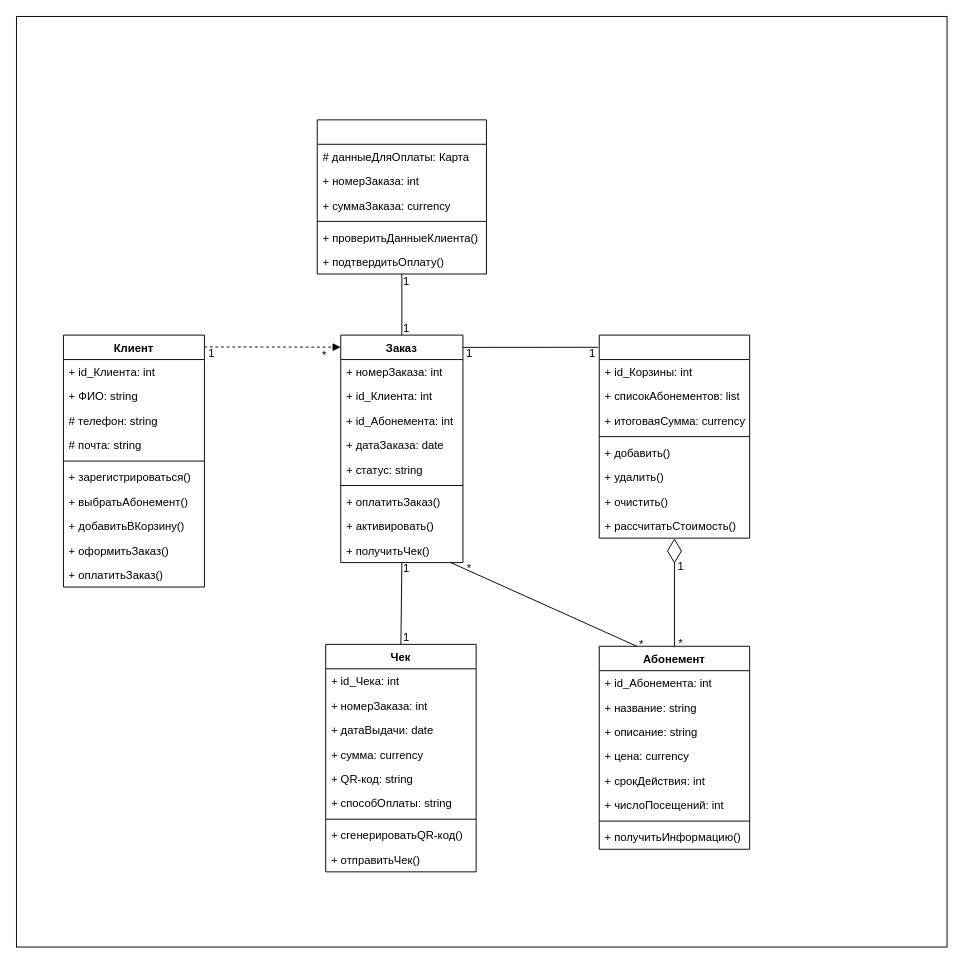
This 964x964 diagram has some shape labels left out. The box of each missing label's shape, as (x1, y1, x2, y2) in pixels:
Корзина: (598, 334, 750, 538)
Платёжная система: (316, 119, 486, 274)
